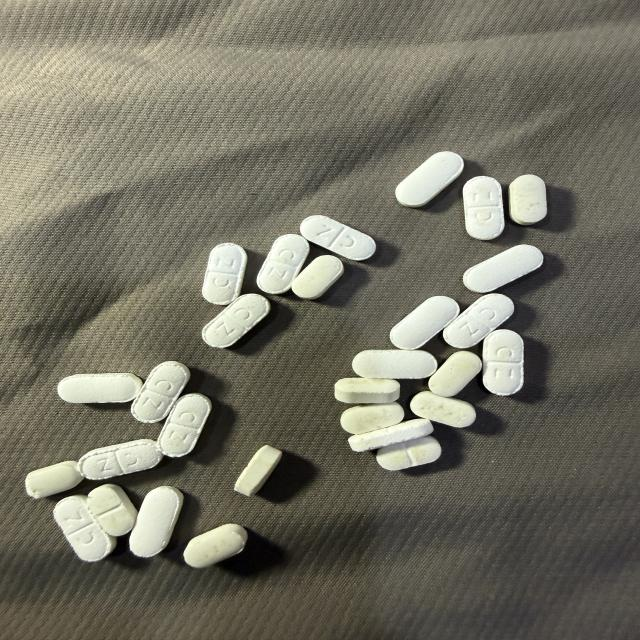pill: (53, 496, 116, 561), (443, 294, 514, 348), (130, 486, 183, 557), (463, 245, 543, 292), (396, 152, 463, 207), (390, 296, 459, 349), (202, 294, 270, 347), (132, 361, 190, 422), (78, 439, 163, 480), (300, 215, 376, 260), (158, 394, 211, 457), (257, 234, 309, 294), (184, 524, 247, 568), (348, 419, 433, 451), (202, 244, 247, 304), (463, 176, 504, 240), (483, 330, 523, 395), (88, 484, 137, 536), (58, 373, 142, 403), (429, 351, 482, 397), (352, 350, 437, 378), (235, 446, 282, 496), (410, 391, 475, 427), (376, 436, 442, 470), (292, 256, 343, 299), (25, 461, 83, 498), (341, 403, 404, 434), (509, 175, 546, 225), (335, 378, 399, 403)
